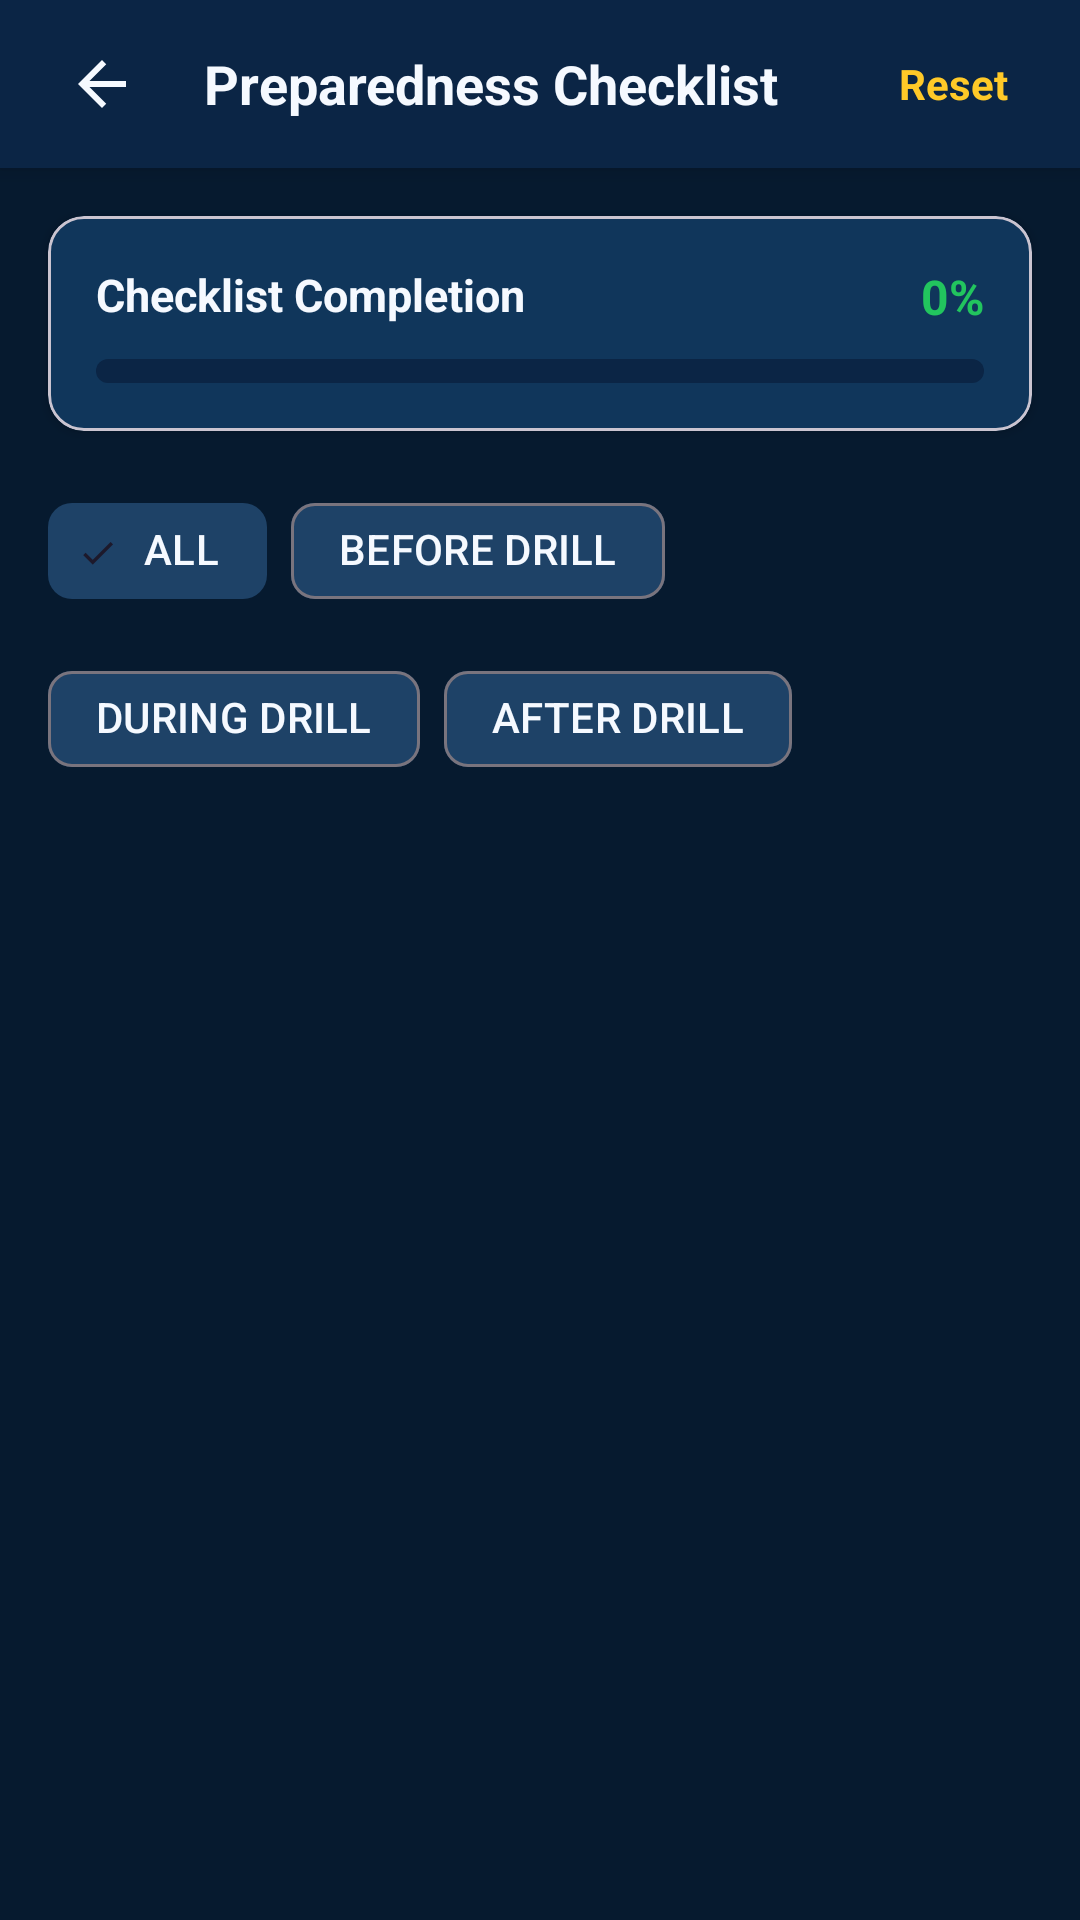

Icon bounding boxes for this 1080 × 1920 phone screenshot, format (x1, y1, x2, y2):
Back: (78, 60, 126, 108)
